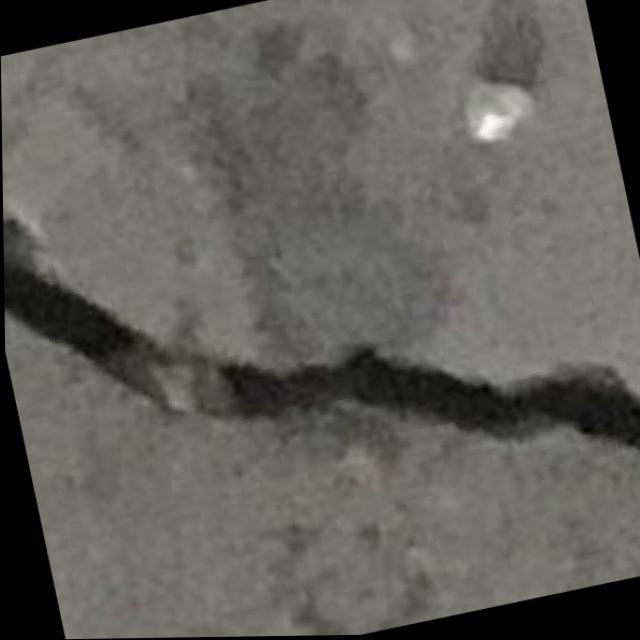Crack: (1, 71, 640, 595)
